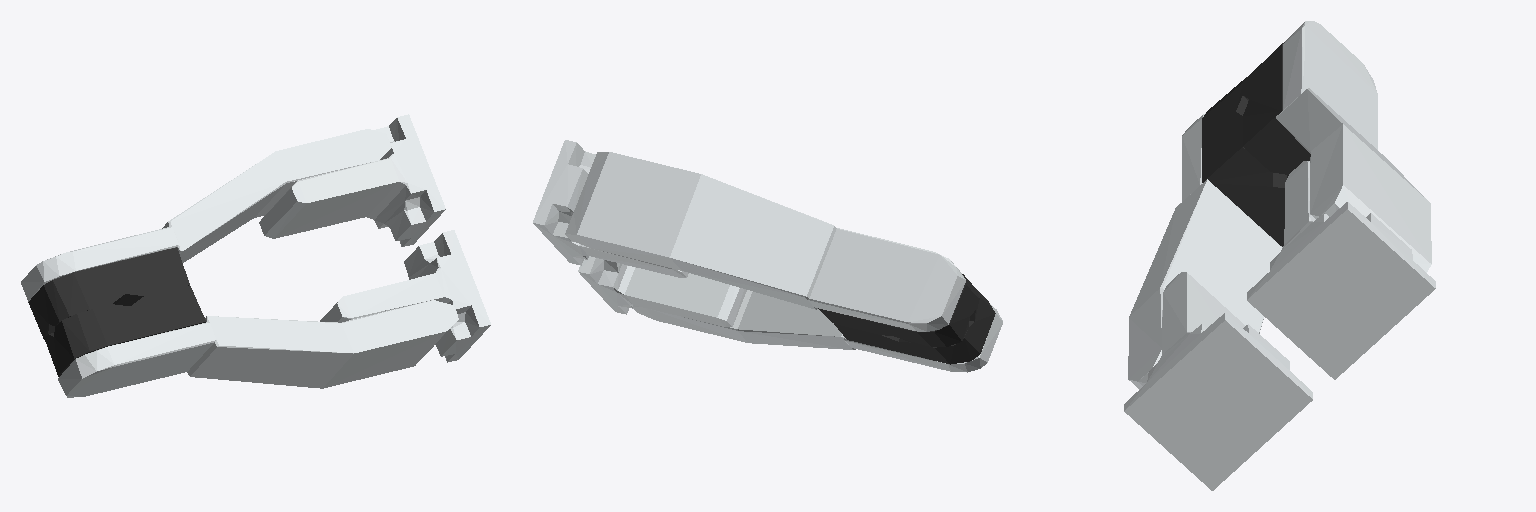
The robot description file, URDF, robot "panda":
<?xml version="1.0" ?>
<robot name="panda" xmlns:xacro="http://www.ros.org/wiki/xacro">
  <link name="panda_link0">
    <visual>
      <geometry>
        <mesh filename="package://franka_description/meshes/visual/link0.dae"/>
      </geometry>
    </visual>
    <collision>
      <geometry>
        <mesh filename="package://franka_description/meshes/collision/link0.obj"/>
      </geometry>
    </collision>
  </link>
  <link name="panda_link1">
    <visual>
      <geometry>
        <mesh filename="package://franka_description/meshes/visual/link1.dae"/>
      </geometry>
    </visual>
    <collision>
      <geometry>
        <mesh filename="package://franka_description/meshes/collision/link1.obj"/>
      </geometry>
    </collision>
  </link>
  <joint name="panda_joint1" type="revolute">
    <safety_controller k_position="100.0" k_velocity="40.0" soft_lower_limit="-2.8973" soft_upper_limit="2.8973"/>
    <origin rpy="0 0 0" xyz="0 0 0.333"/>
    <parent link="panda_link0"/>
    <child link="panda_link1"/>
    <axis xyz="0 0 1"/>
    <dynamics damping="10.0"/>
    <limit effort="87" lower="-2.8973" upper="2.8973" velocity="2.1750"/>
  </joint>
  <link name="panda_link2">
    <visual>
      <geometry>
        <mesh filename="package://franka_description/meshes/visual/link2.dae"/>
      </geometry>
    </visual>
    <collision>
      <geometry>
        <mesh filename="package://franka_description/meshes/collision/link2.obj"/>
      </geometry>
    </collision>
  </link>
  <joint name="panda_joint2" type="revolute">
    <safety_controller k_position="100.0" k_velocity="40.0" soft_lower_limit="-1.7628" soft_upper_limit="1.7628"/>
    <origin rpy="-1.57079632679 0 0" xyz="0 0 0"/>
    <parent link="panda_link1"/>
    <child link="panda_link2"/>
    <axis xyz="0 0 1"/>
    <dynamics damping="10.0"/>
    <limit effort="87" lower="-1.7628" upper="1.7628" velocity="2.1750"/>
  </joint>
  <link name="panda_link3">
    <visual>
      <geometry>
        <mesh filename="package://franka_description/meshes/visual/link3.dae"/>
      </geometry>
    </visual>
    <collision>
      <geometry>
        <mesh filename="package://franka_description/meshes/collision/link3.obj"/>
      </geometry>
    </collision>
  </link>
  <joint name="panda_joint3" type="revolute">
    <safety_controller k_position="100.0" k_velocity="40.0" soft_lower_limit="-2.8973" soft_upper_limit="2.8973"/>
    <origin rpy="1.57079632679 0 0" xyz="0 -0.316 0"/>
    <parent link="panda_link2"/>
    <child link="panda_link3"/>
    <axis xyz="0 0 1"/>
    <dynamics damping="10.0"/>
    <limit effort="87" lower="-2.8973" upper="2.8973" velocity="2.1750"/>
  </joint>
  <link name="panda_link4">
    <visual>
      <geometry>
        <mesh filename="package://franka_description/meshes/visual/link4.dae"/>
      </geometry>
    </visual>
    <collision>
      <geometry>
        <mesh filename="package://franka_description/meshes/collision/link4.obj"/>
      </geometry>
    </collision>
  </link>
  <joint name="panda_joint4" type="revolute">
    <safety_controller k_position="100.0" k_velocity="40.0" soft_lower_limit="-3.0718" soft_upper_limit="-0.0698"/>
    <origin rpy="1.57079632679 0 0" xyz="0.0825 0 0"/>
    <parent link="panda_link3"/>
    <child link="panda_link4"/>
    <axis xyz="0 0 1"/>    
    <dynamics damping="10.0"/>
    <limit effort="87" lower="-3.0718" upper="-0.0698" velocity="2.1750"/>
    <!-- something is weird with this joint limit config
    <dynamics damping="10.0"/>
    <limit effort="87" lower="-3.0" upper="0.087" velocity="2.1750"/>  -->
  </joint>
  <link name="panda_link5">
    <visual>
      <geometry>
        <mesh filename="package://franka_description/meshes/visual/link5.dae"/>
      </geometry>
    </visual>
    <collision>
      <geometry>
        <mesh filename="package://franka_description/meshes/collision/link5.obj"/>
      </geometry>
    </collision>
  </link>
  <joint name="panda_joint5" type="revolute">
    <safety_controller k_position="100.0" k_velocity="40.0" soft_lower_limit="-2.8973" soft_upper_limit="2.8973"/>
    <origin rpy="-1.57079632679 0 0" xyz="-0.0825 0.384 0"/>
    <parent link="panda_link4"/>
    <child link="panda_link5"/>
    <axis xyz="0 0 1"/>
    <dynamics damping="10.0"/>
    <limit effort="12" lower="-2.8973" upper="2.8973" velocity="2.6100"/>
  </joint>
  <link name="panda_link6">
    <visual>
      <geometry>
        <mesh filename="package://franka_description/meshes/visual/link6.dae"/>
      </geometry>
    </visual>
    <collision>
      <geometry>
        <mesh filename="package://franka_description/meshes/collision/link6.obj"/>
      </geometry>
    </collision>
  </link>
  <joint name="panda_joint6" type="revolute">
    <safety_controller k_position="100.0" k_velocity="40.0" soft_lower_limit="-0.0175" soft_upper_limit="3.7525"/>
    <origin rpy="1.57079632679 0 0" xyz="0 0 0"/>
    <parent link="panda_link5"/>
    <child link="panda_link6"/>
    <axis xyz="0 0 1"/>
    <dynamics damping="10.0"/>
    <limit effort="12" lower="-0.0175" upper="3.7525" velocity="2.6100"/>
    <!-- <dynamics damping="10.0"/>
    <limit effort="12" lower="-0.0873" upper="3.0" velocity="2.6100"/> -->
  </joint>
  <link name="panda_link7">
    <visual>
      <geometry>
        <mesh filename="package://franka_description/meshes/visual/link7.dae"/>
      </geometry>
    </visual>
    <collision>
      <geometry>
        <mesh filename="package://franka_description/meshes/collision/link7.obj"/>
      </geometry>
    </collision>
  </link>
  <joint name="panda_joint7" type="revolute">
    <safety_controller k_position="100.0" k_velocity="40.0" soft_lower_limit="-2.8973" soft_upper_limit="2.8973"/>
    <origin rpy="1.57079632679 0 0" xyz="0.088 0 0"/>
    <parent link="panda_link6"/>
    <child link="panda_link7"/>
    <axis xyz="0 0 1"/>
    <dynamics damping="10.0"/>
    <limit effort="12" lower="-2.8973" upper="2.8973" velocity="2.6100"/>
  </joint>
  <!--
  <link name="panda_link8"/>
  <joint name="panda_joint8" type="fixed">
    <origin rpy="0 0 0" xyz="0 0 0.107"/>
    <parent link="panda_link7"/>
    <child link="panda_link8"/>
    <axis xyz="0 0 0"/>
  </joint>
  Removing this joint seems to help with some stability things
  -->
  <joint name="panda_hand_joint" type="fixed">
    <!--
    <parent link="panda_link8"/>
    -->
    <parent link="panda_link7"/>
    <child link="panda_hand"/>
    <origin rpy="0 0 -0.785398163397" xyz="0 0 0.107"/>
    <!--
    <origin rpy="0 0 -0.785398163397" xyz="0 0 0"/>
    -->
  </joint>
  <link name="panda_hand">
    <visual>
      <geometry>
        <mesh filename="package://franka_description/meshes/visual/hand.dae"/>
      </geometry>
    </visual>
    <collision>
      <geometry>
        <mesh filename="package://franka_description/meshes/collision/hand.obj"/>
      </geometry>
    </collision>
  </link>
  <link name="panda_leftfinger">
    <visual>
      <geometry>
        <mesh filename="package://franka_description/meshes/visual/extended_finger.dae"/>
      </geometry>
    </visual>
    <collision>
      <geometry>
        <mesh filename="package://franka_description/meshes/collision/extended_finger.obj"/>
      </geometry>
    </collision>
  </link>
  <link name="panda_rightfinger">
    <visual>
      <origin rpy="0 0 3.14159265359" xyz="0 0 0"/>
      <geometry>
        <mesh filename="package://franka_description/meshes/visual/extended_finger.dae"/>
      </geometry>
    </visual>
    <collision>
      <origin rpy="0 0 3.14159265359" xyz="0 0 0"/>
      <geometry>
        <mesh filename="package://franka_description/meshes/collision/extended_finger.obj"/>
      </geometry>
    </collision>
  </link>
  <joint name="panda_finger_joint1" type="prismatic">
    <parent link="panda_hand"/>
    <child link="panda_leftfinger"/>
    <origin rpy="0 0 0" xyz="0 0 0.0584"/>
    <axis xyz="0 1 0"/>
    <dynamics damping="10.0"/>
    <limit effort="20" lower="0.0" upper="0.04" velocity="0.2"/>
  </joint>
  <joint name="panda_finger_joint2" type="prismatic">
    <parent link="panda_hand"/>
    <child link="panda_rightfinger"/>
    <origin rpy="0 0 0" xyz="0 0 0.0584"/>
    <axis xyz="0 -1 0"/>
    <dynamics damping="10.0"/>
    <limit effort="20" lower="0.0" upper="0.04" velocity="0.2"/>
    <mimic joint="panda_finger_joint1"/>
  </joint>
</robot>

--- Render facts (derived) ---
Views: 3 orthographic renders of the robot side by side, from view 1: azimuth 30°, elevation 25°; view 2: azimuth 150°, elevation 25°; view 3: azimuth 270°, elevation 25°.
Robot: panda — 11 links, 10 joints (7 revolute, 2 prismatic, 1 fixed); root link panda_link0; default pose: joints at zero except 1 at the middle of their limits (panda_joint4 = -1.57).
Visible links, largest first — view 1: panda_leftfinger, panda_rightfinger; view 2: panda_rightfinger, panda_leftfinger; view 3: panda_rightfinger, panda_leftfinger.
Boxes of the visible links, <box> form: panda_leftfinger: <box>44,230,490,397</box>; panda_rightfinger: <box>21,114,445,339</box>; panda_rightfinger: <box>533,140,979,346</box>; panda_leftfinger: <box>578,256,1002,372</box>; panda_rightfinger: <box>1243,21,1435,379</box>; panda_leftfinger: <box>1124,77,1312,490</box>.
Size in the robot's own frame: 0.0994 by 0.0519 by 0.0519 metres.
Meshes: 10 distinct files referenced, 2 mesh visuals loaded (1 Collada DAE); not drawn: 9 (reference not matched to a file when rendering).